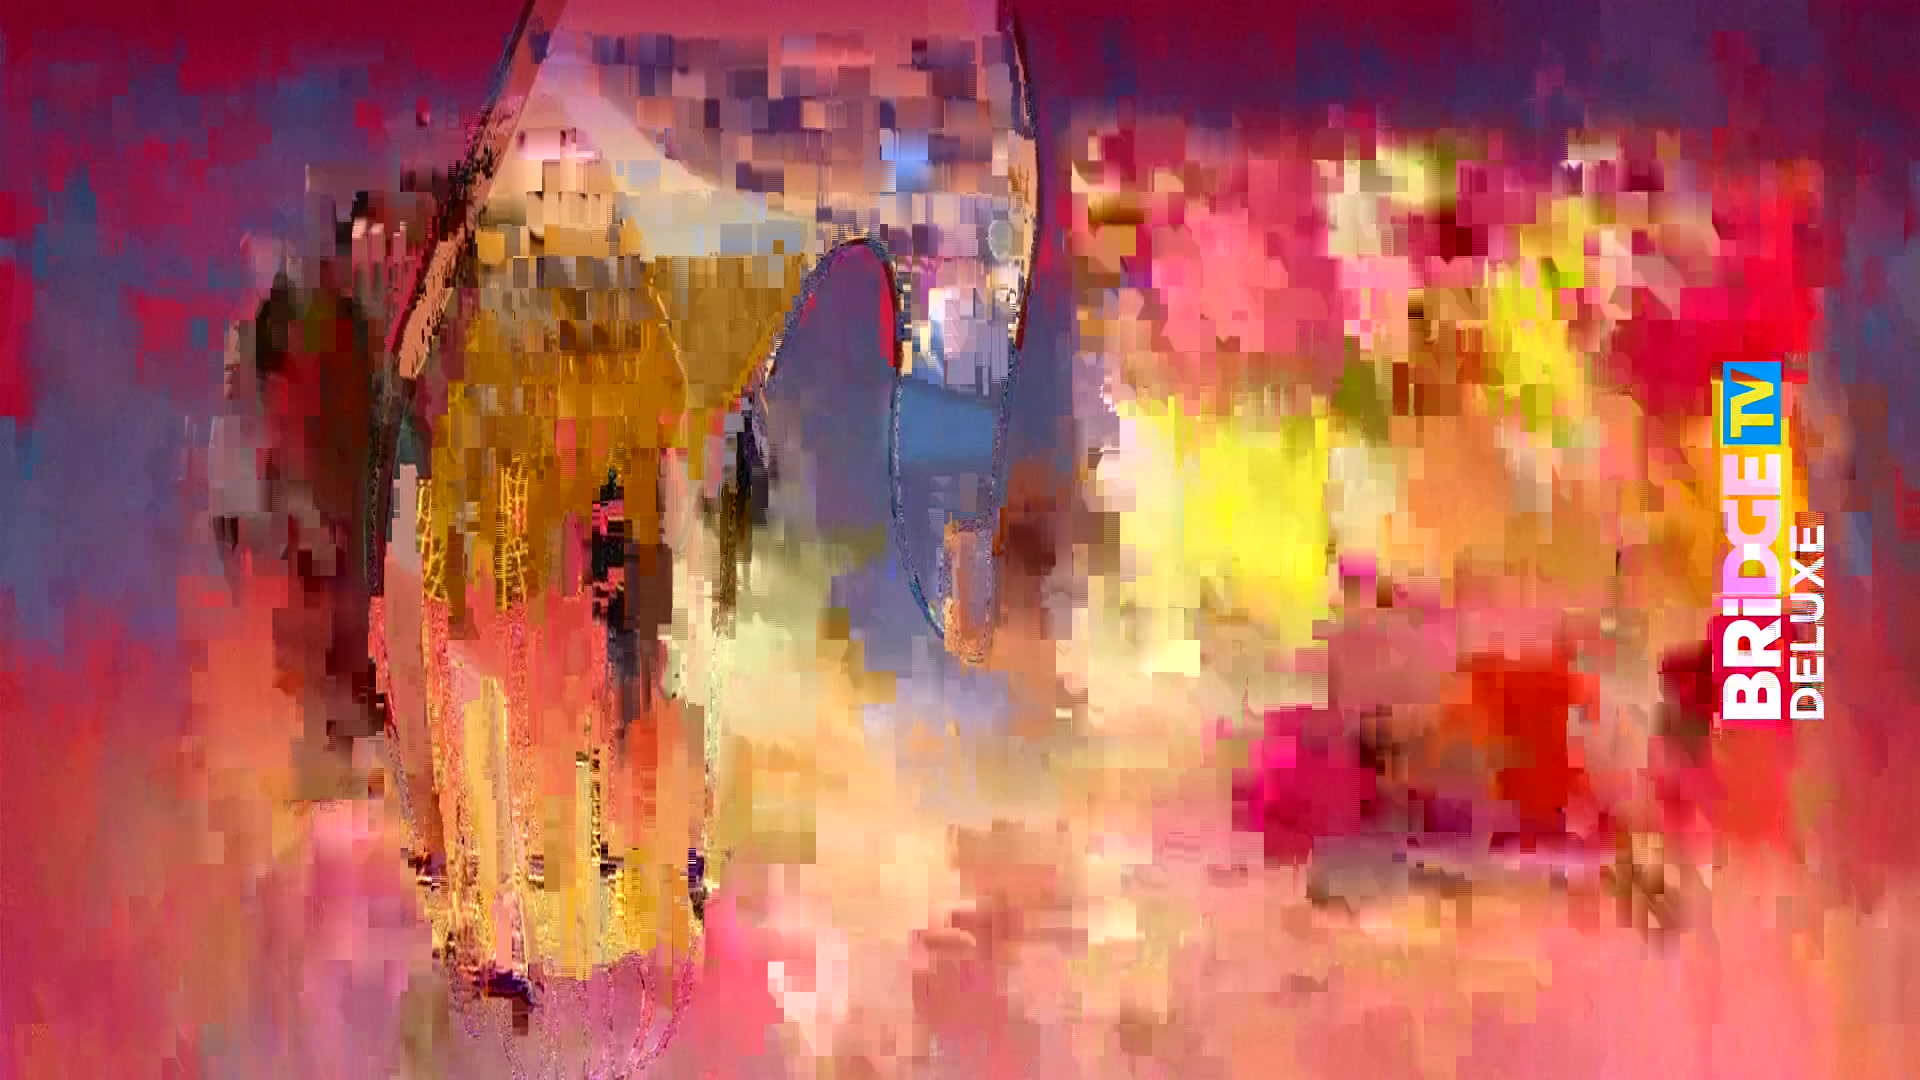Bridge_TV_Deluxe: (1720, 356, 1833, 727)
